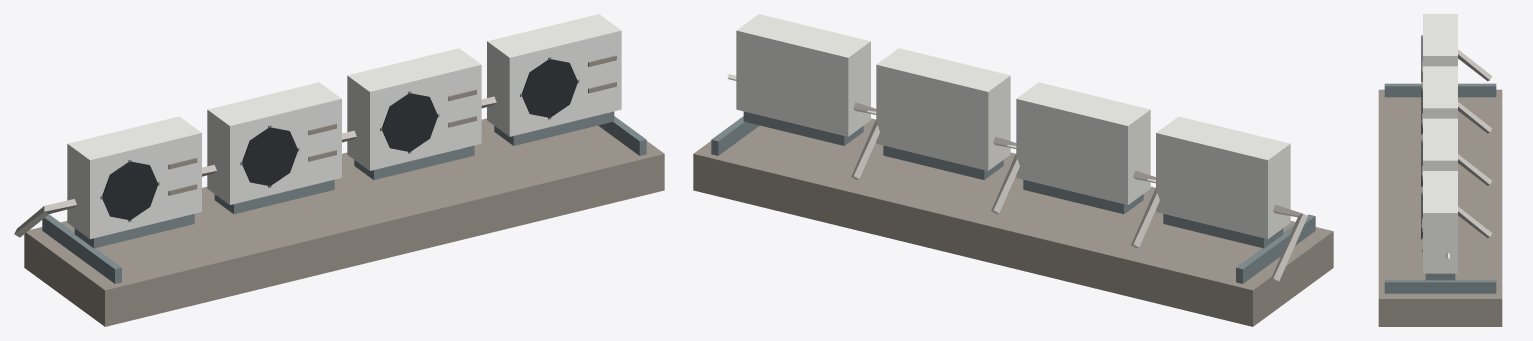
Rendered from tb_rooftop_ac_rack_01.fbx.
The picture shows the model from 3 angles, left to right: view 1: azimuth 30°, elevation 25°; view 2: azimuth 150°, elevation 25°; view 3: azimuth 270°, elevation 25°; orthographic projection. The views are drawn at different scales.
Visible parts, largest first — view 1: tb_rooftop_ac_rack_01; view 2: tb_rooftop_ac_rack_01; view 3: tb_rooftop_ac_rack_01.
Part boxes in pixels (x1=…): tb_rooftop_ac_rack_01: x1=14, y1=14, x2=664, y2=326; tb_rooftop_ac_rack_01: x1=693, y1=14, x2=1333, y2=326; tb_rooftop_ac_rack_01: x1=1378, y1=14, x2=1502, y2=326.
Size of what is drawn, in the model's own units: 4.13 by 0.97 by 1.26.
2 materials, 1 textured.
